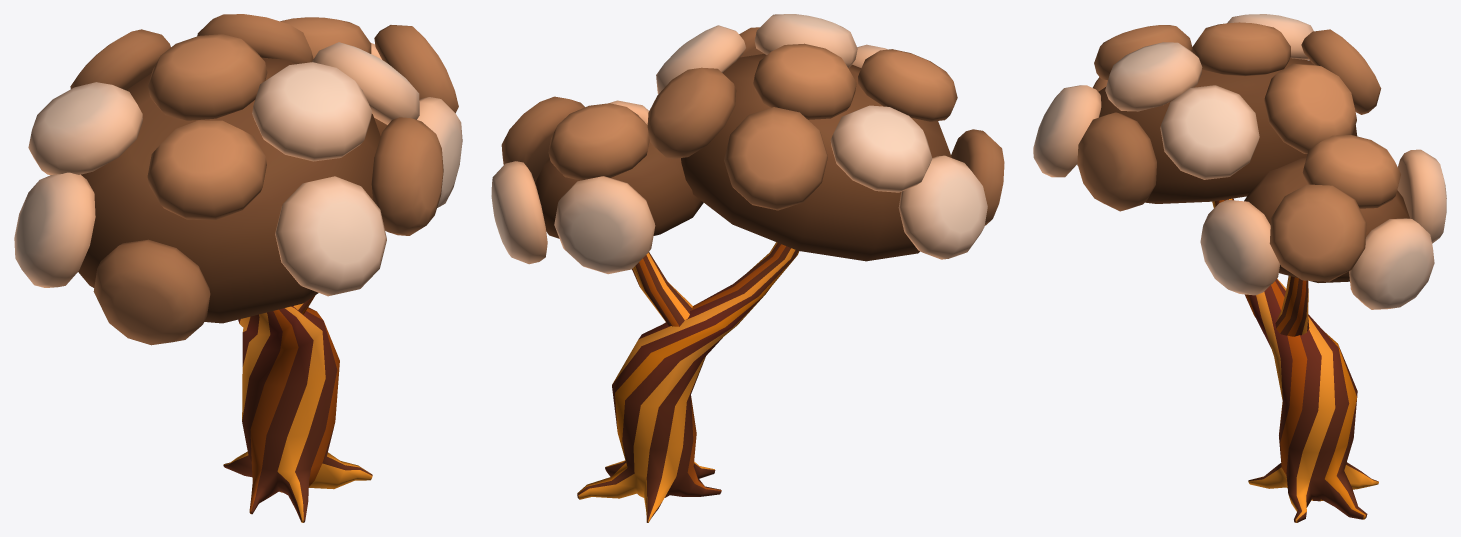
File: cw_tree_30.fbx
3 views of the same model, side by side, from view 1: azimuth 30°, elevation 25°; view 2: azimuth 150°, elevation 25°; view 3: azimuth 270°, elevation 25° (orthographic). The views are drawn at different scales.
Parts seen in each view (by area): view 1: cw_t_30; view 2: cw_t_30; view 3: cw_t_30.
Part boxes in pixels (x1=…): cw_t_30: x1=14, y1=14, x2=462, y2=522; cw_t_30: x1=491, y1=14, x2=1004, y2=522; cw_t_30: x1=1033, y1=14, x2=1446, y2=522.
Size of the model in its own units: 193 by 192 by 173.
